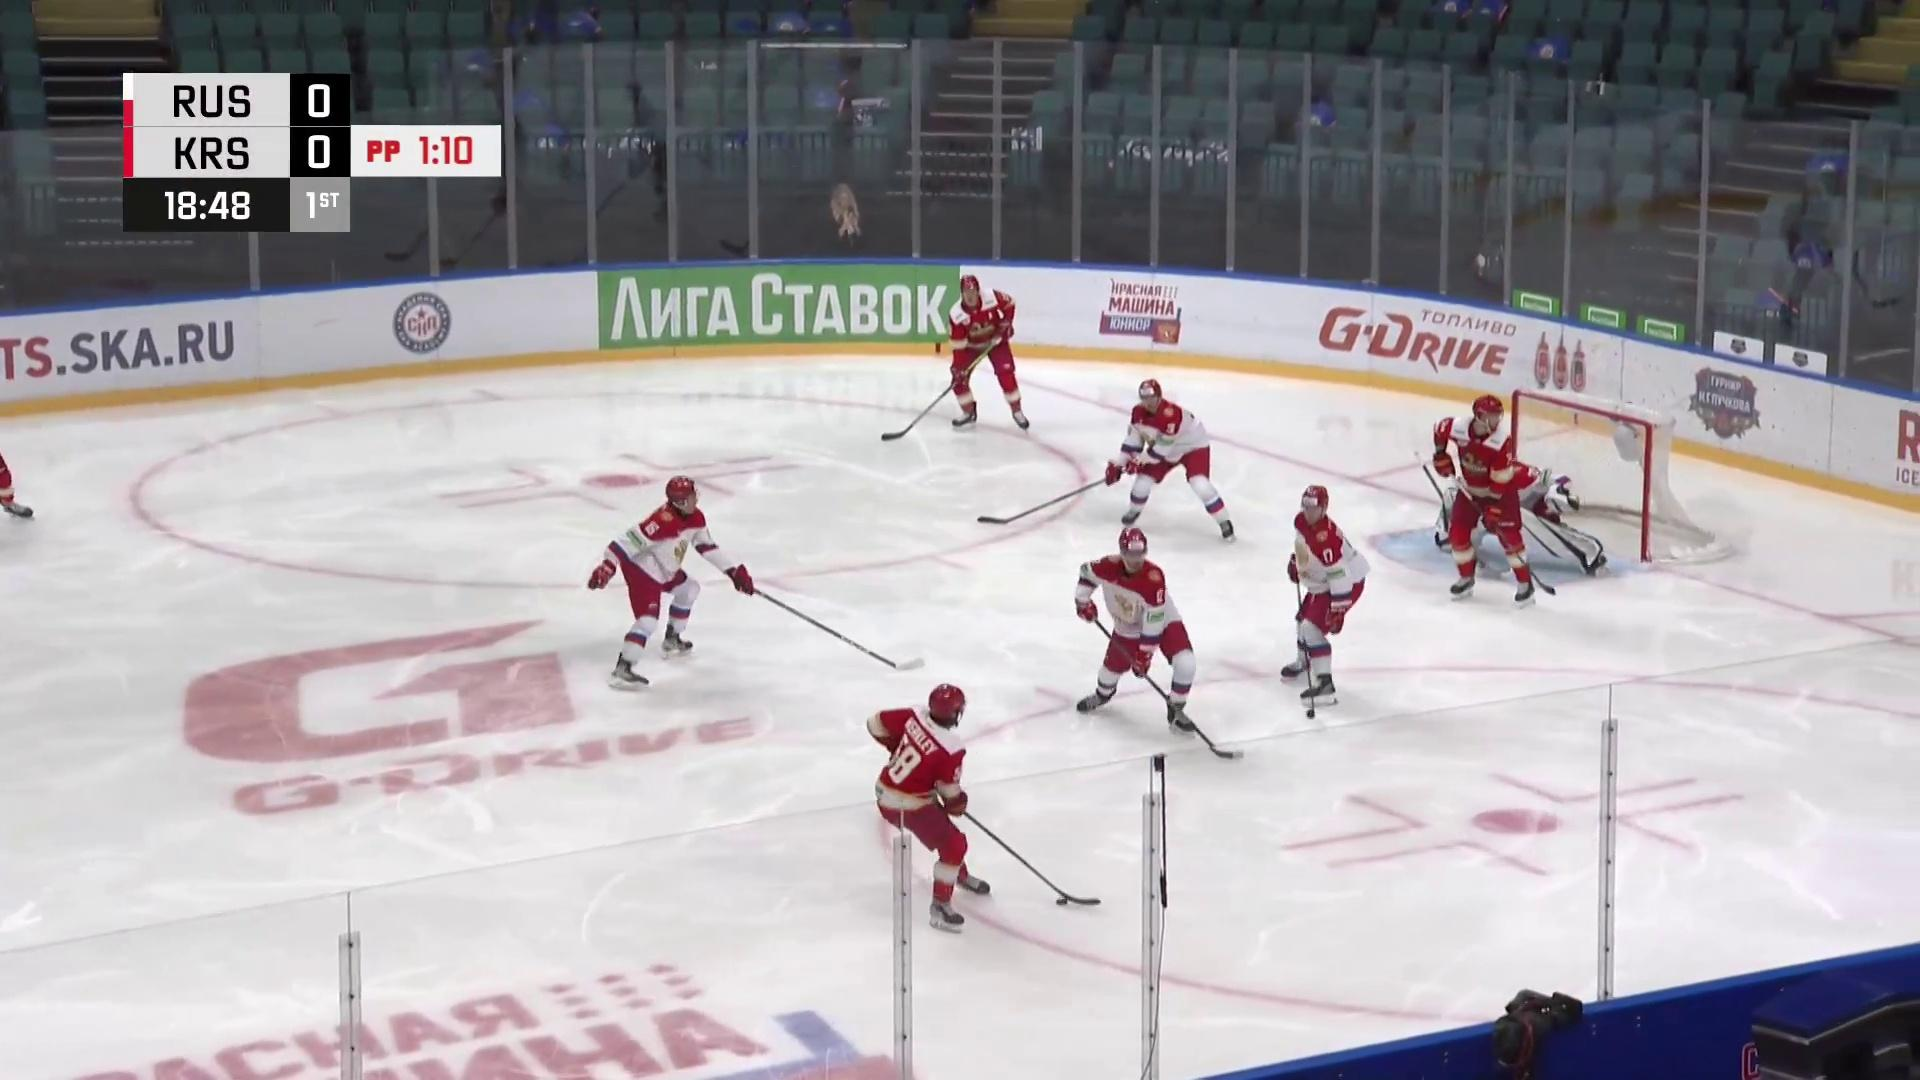ball: (1052, 895, 1069, 906)
